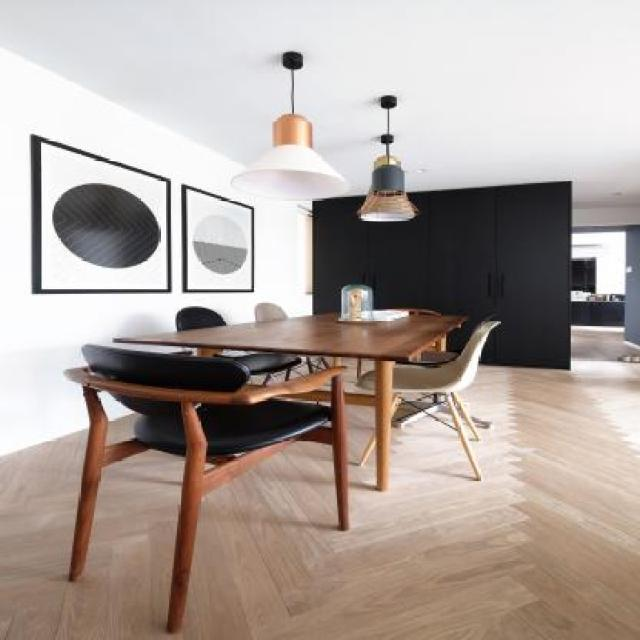floor: (0, 360, 640, 640)
